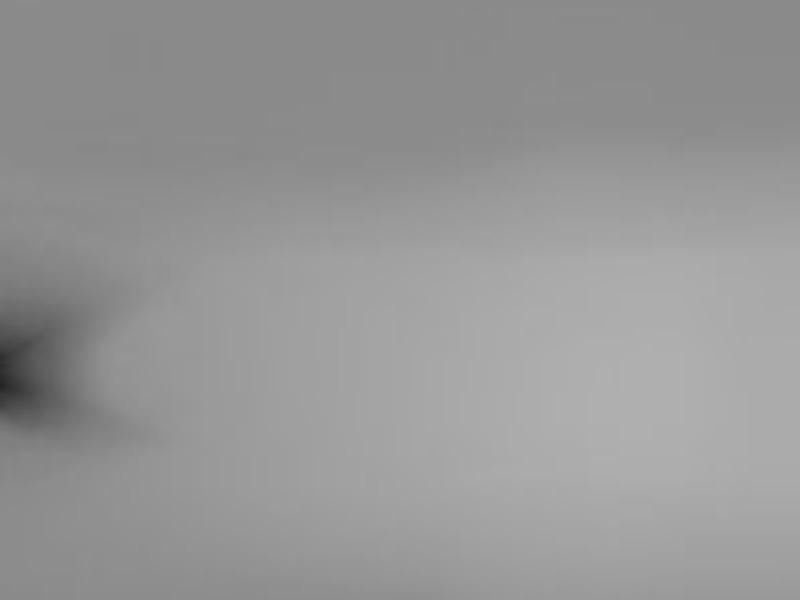defect: (2, 325, 24, 418)
